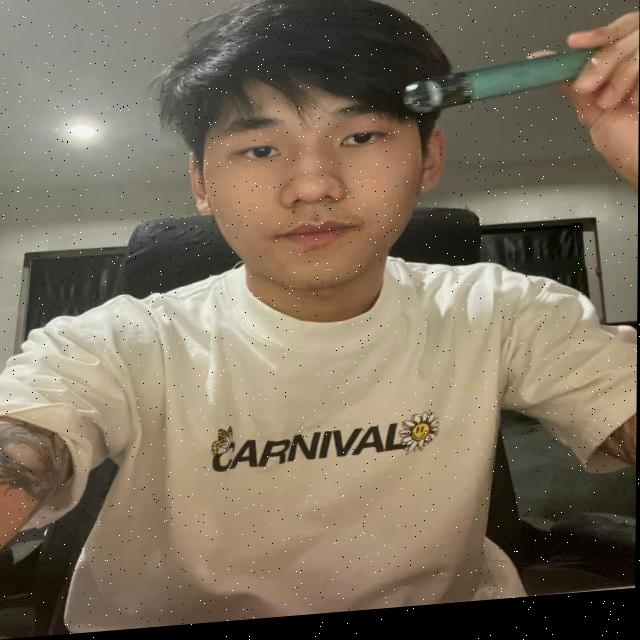vape: (403, 56, 592, 117)
